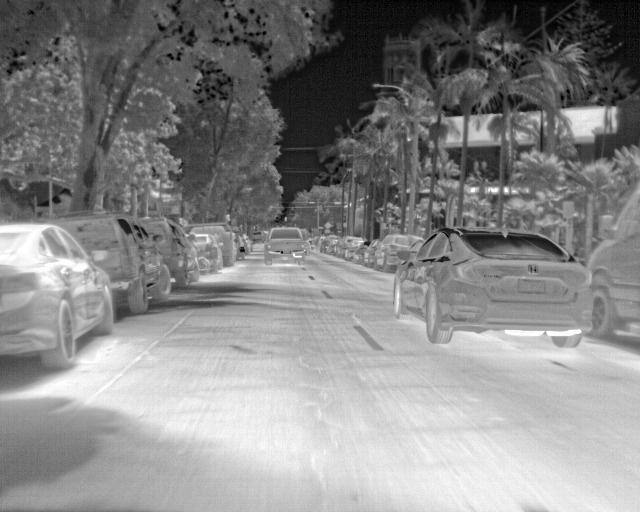bicycle: (393, 227, 591, 347), (0, 218, 116, 368), (41, 217, 172, 314), (587, 186, 639, 339), (143, 218, 200, 289), (188, 220, 236, 267), (374, 233, 425, 270), (184, 233, 226, 274), (262, 226, 307, 263), (335, 236, 361, 258), (362, 238, 380, 266), (345, 239, 365, 261), (319, 234, 339, 255), (251, 230, 265, 245)
